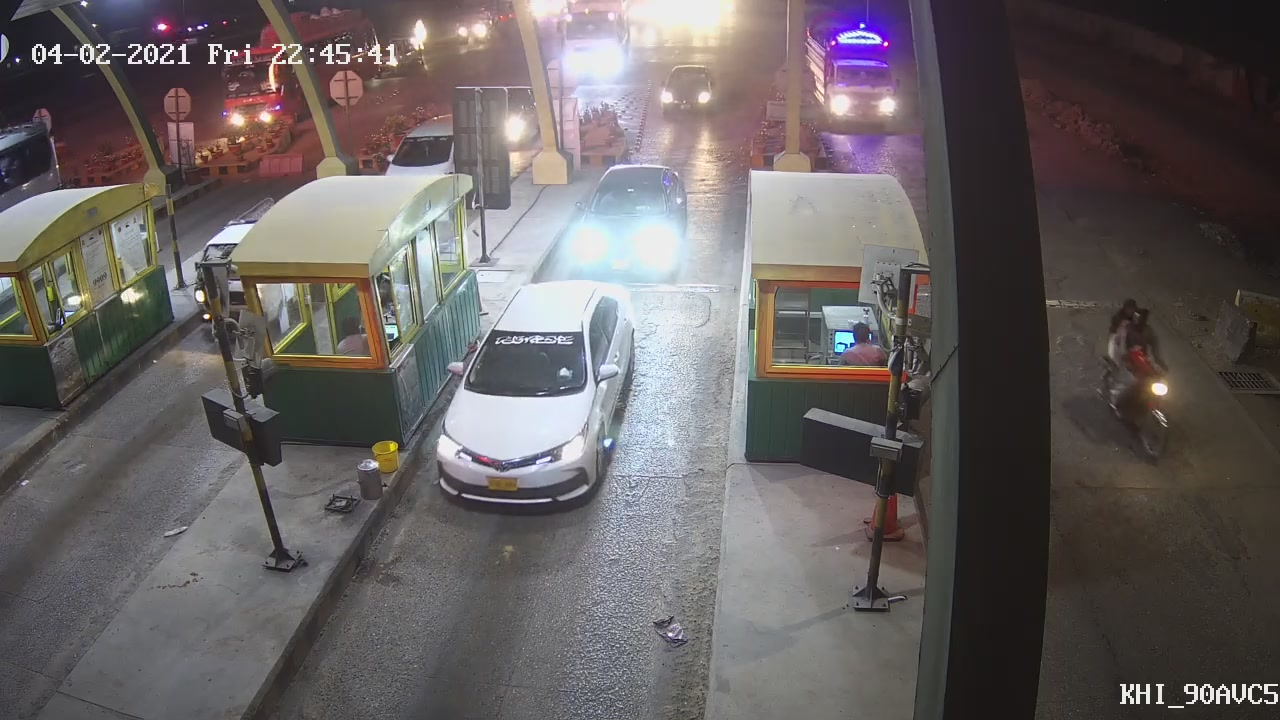F1: (430, 274, 640, 514), (574, 161, 686, 271)
